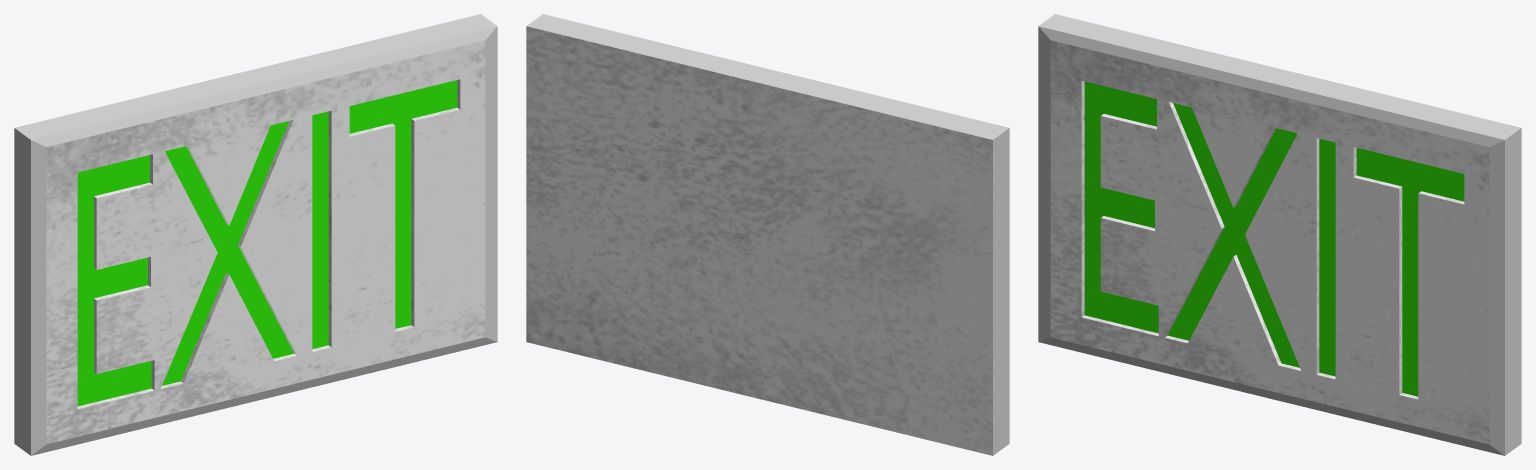
Rendered from EXITSign.fbx.
The picture shows the model from 3 angles, left to right: view 1: azimuth 30°, elevation 25°; view 2: azimuth 150°, elevation 25°; view 3: azimuth 330°, elevation 25°; orthographic projection.
Visible parts, largest first — view 1: EXITSign; view 2: EXITSign; view 3: EXITSign.
Part boxes in pixels (box(x1,y1,x2,y2)): EXITSign: box(14, 14, 497, 455); EXITSign: box(526, 14, 1009, 455); EXITSign: box(1038, 14, 1521, 455).
Bounding box in the file's own units: 42.75 × 27.66 × 2.91.
